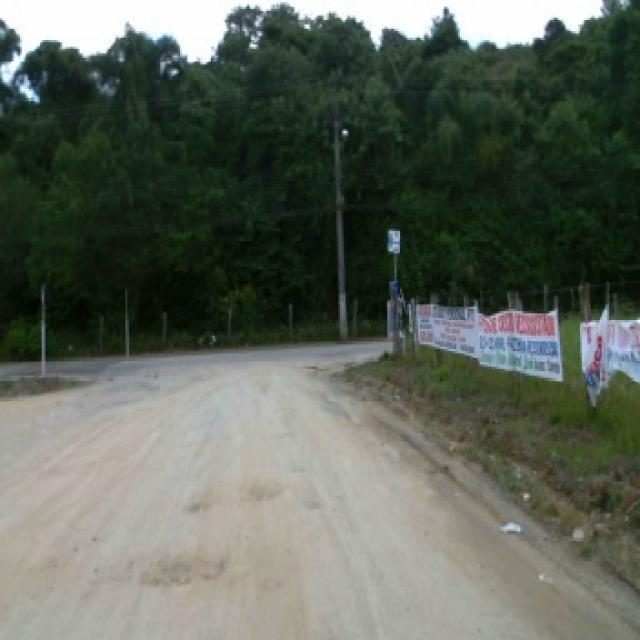Poth-hole: (127, 544, 231, 589), (238, 480, 289, 502), (180, 491, 211, 516), (298, 362, 329, 371)
